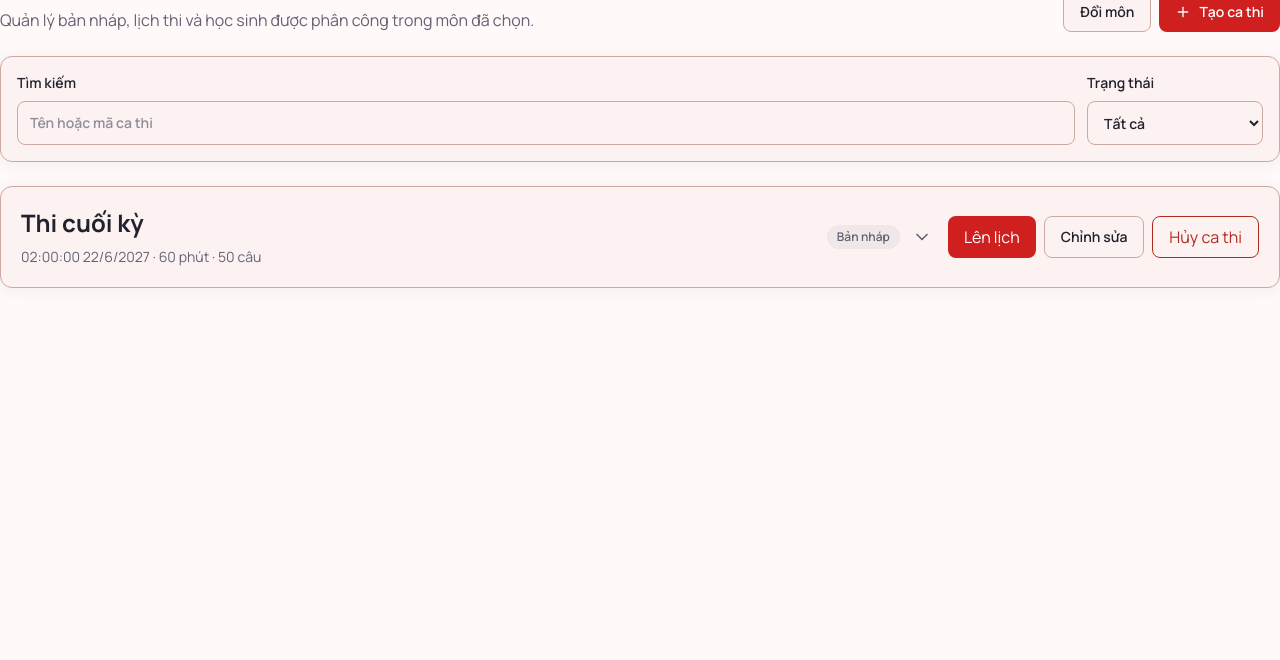
SubjectExamListPage › keeps the panel open and retries a failed detail request
Click the button "Thi cuối kỳ 02:00:00 22/6/2027 · 60 phút · 50 câu Bản nháp" at (82, 222), box [21,207,932,267]
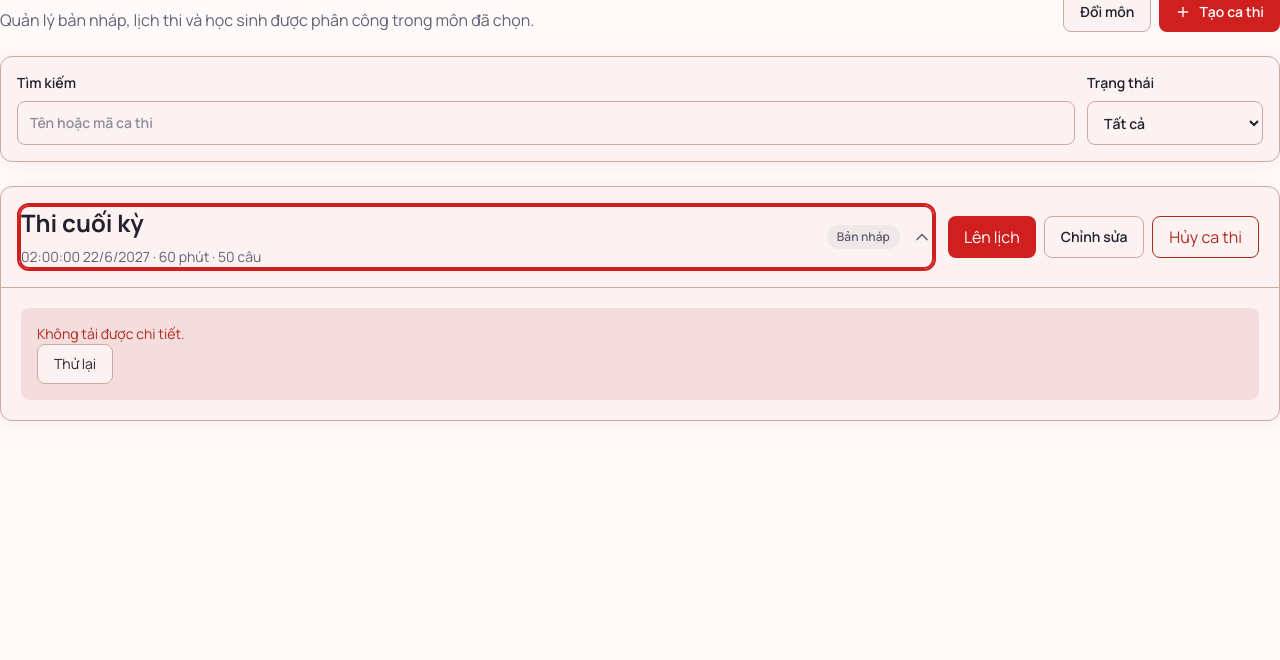
expect the message shows "Không tải được chi tiết.": met, box [37,324,185,343]
Click the button "Thử lại" at (75, 364), box [37,344,113,384]
(page scrolled)
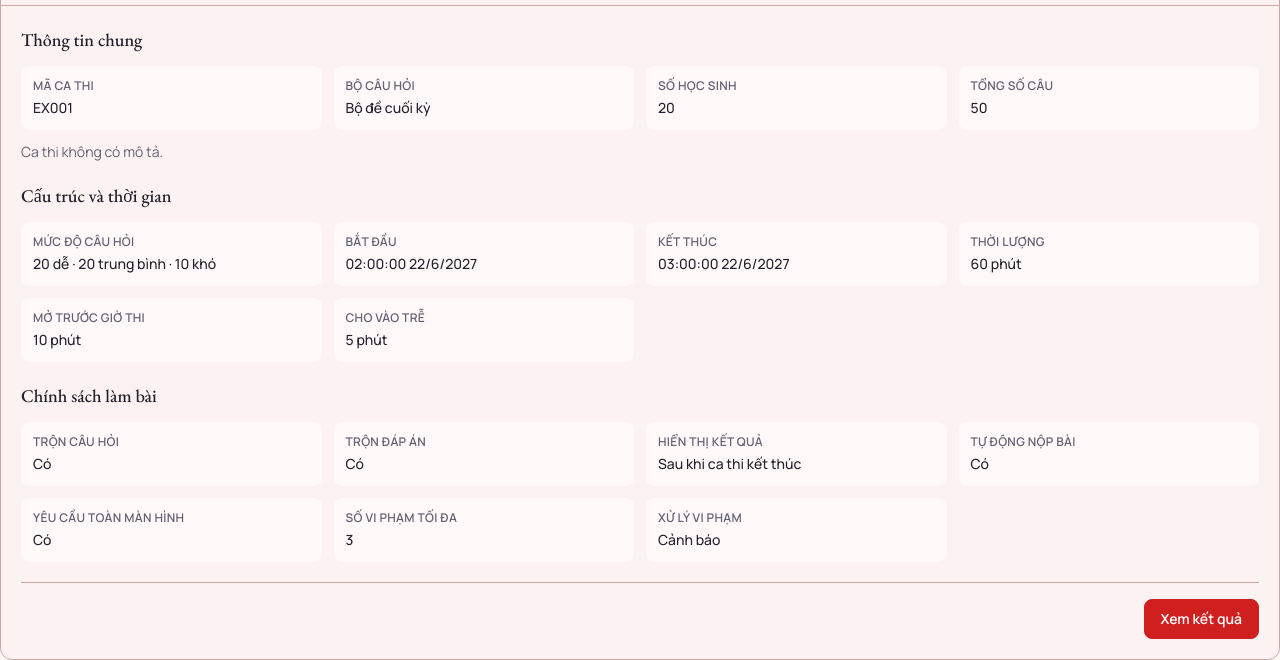
expect the element named "Thi cuối kỳ" is shown: met
expect the text "Ca thi không có mô tả." is shown: met, box [21,142,163,161]
